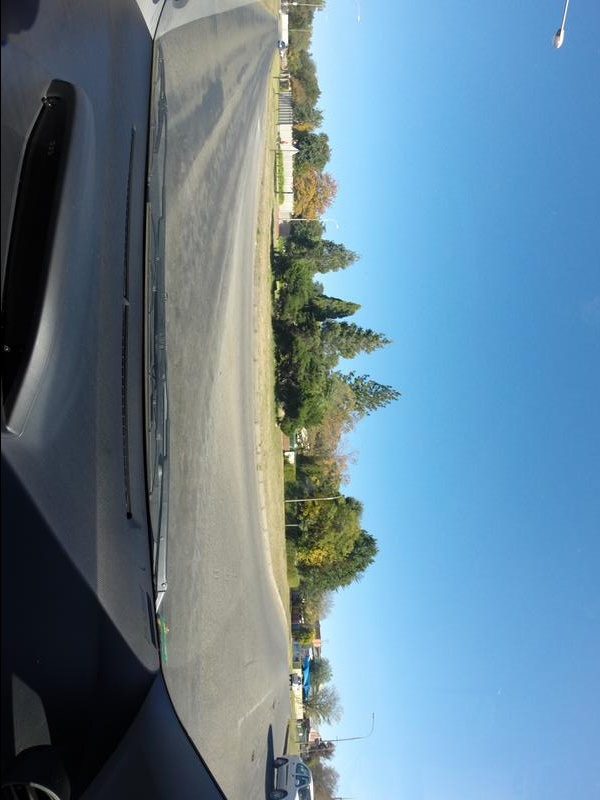pothole: (242, 745, 259, 766), (262, 699, 281, 717)
